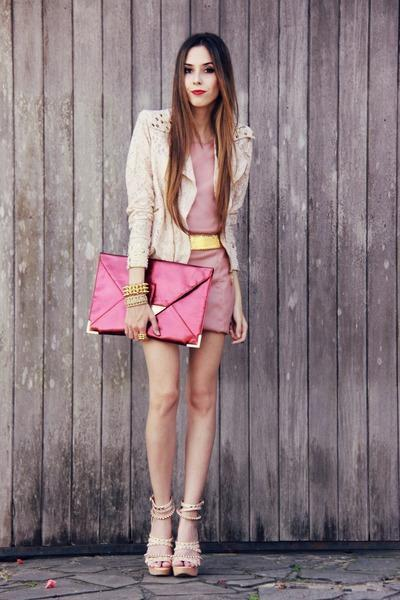bag: (87, 255, 210, 347)
dress: (174, 136, 240, 330)
shoe: (144, 519, 200, 574)
